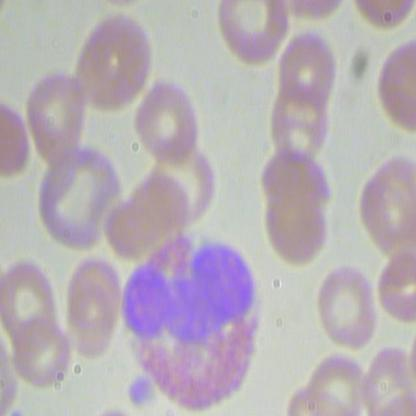RBC: (66, 8, 151, 121), (21, 68, 91, 162), (312, 261, 382, 354), (133, 71, 202, 165), (1, 259, 66, 355), (261, 184, 334, 267), (6, 311, 75, 389), (276, 30, 342, 106)
WBC: (114, 225, 265, 415)
